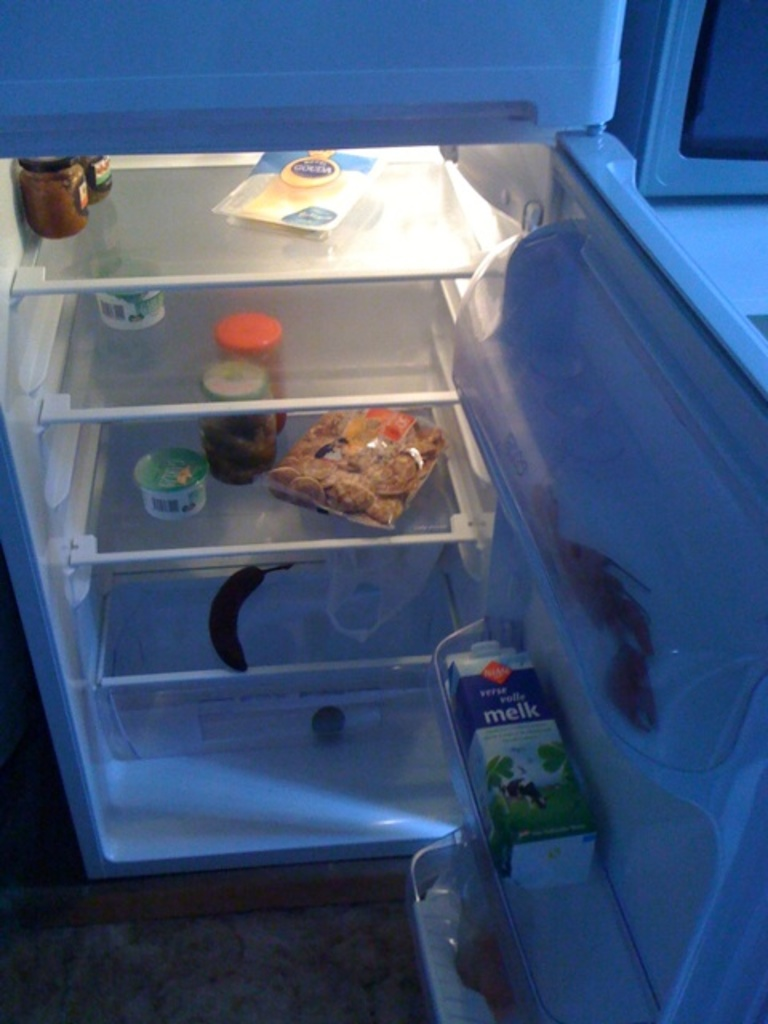refrigerator door: (550, 245, 768, 1024), (13, 10, 601, 105)
